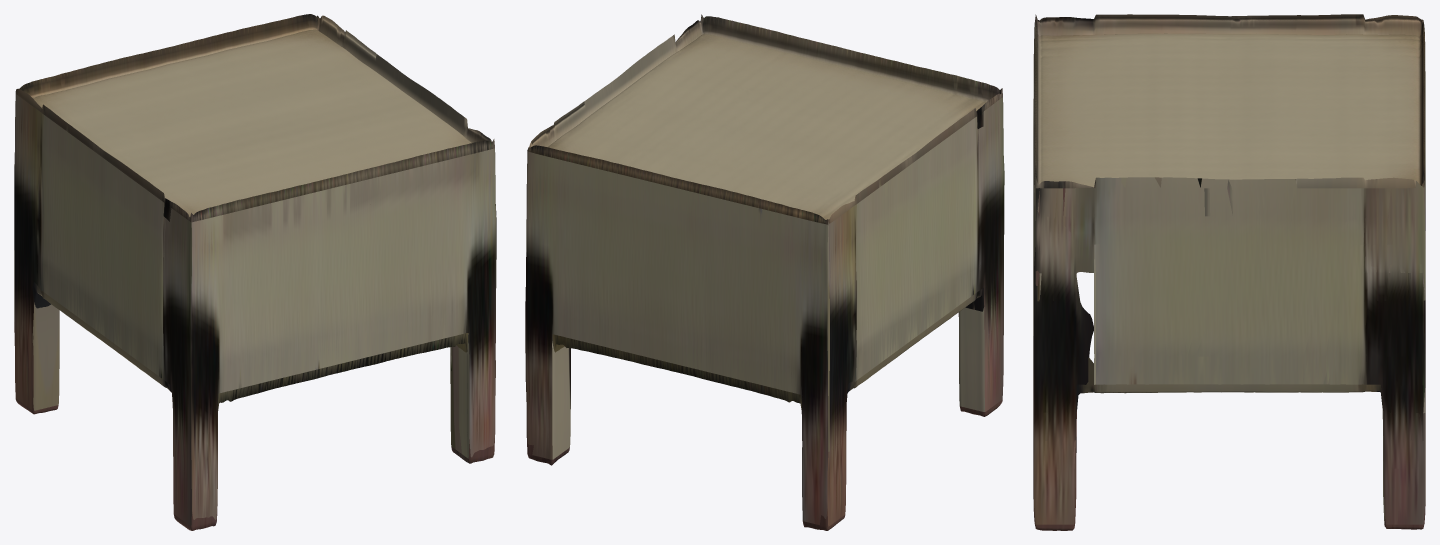
File: balcony-floor.glb
3 renders of one model, left to right at view 1: azimuth 30°, elevation 25°; view 2: azimuth 150°, elevation 25°; view 3: azimuth 270°, elevation 25°, orthographic. The views are drawn at different scales.
Parts seen in each view (by area): view 1: tmpwxcerzzz.ply; view 2: tmpwxcerzzz.ply; view 3: tmpwxcerzzz.ply.
Part boxes in pixels (bbox=[...]): tmpwxcerzzz.ply: bbox=[14, 14, 496, 530]; tmpwxcerzzz.ply: bbox=[525, 14, 1004, 530]; tmpwxcerzzz.ply: bbox=[1033, 14, 1425, 530].
Size of the model in its own units: 1 by 1 by 1.
1 material, 1 textured.
